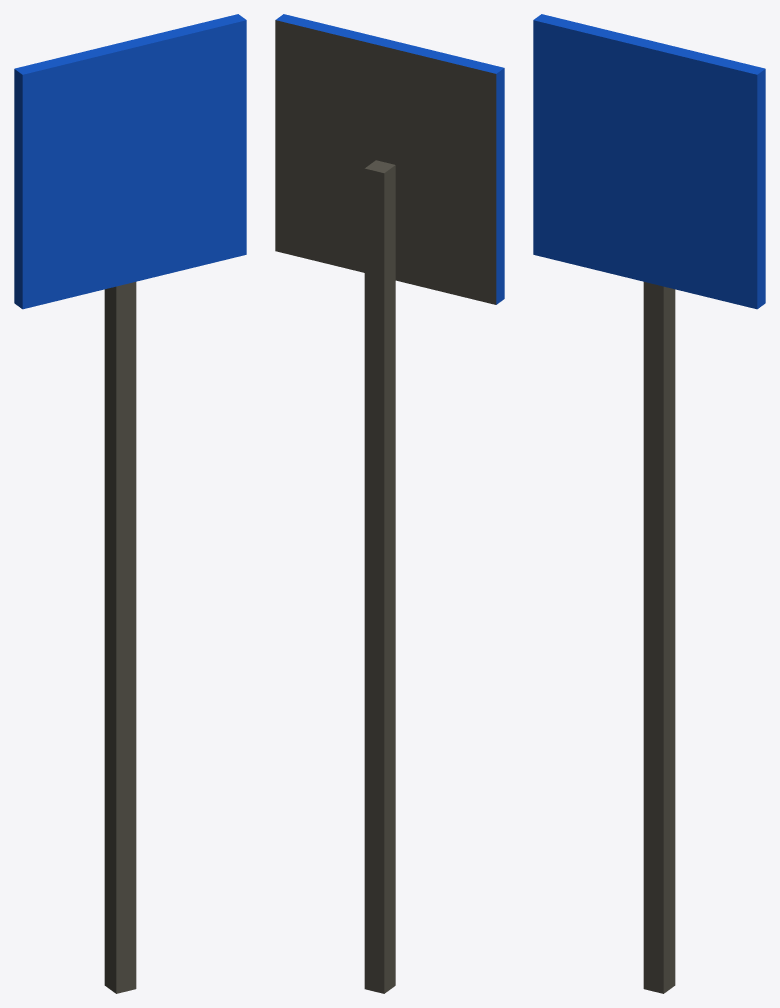
File: CitySignGiveWarrant.fbx
3 renders of one model, left to right at view 1: azimuth 30°, elevation 25°; view 2: azimuth 150°, elevation 25°; view 3: azimuth 330°, elevation 25°, orthographic.
Visible parts, largest first — view 1: CitySignGiveWarrant; view 2: CitySignGiveWarrant; view 3: CitySignGiveWarrant.
Part boxes in pixels (box(x1,y1,x2,y2)): CitySignGiveWarrant: box(14, 14, 246, 993); CitySignGiveWarrant: box(275, 14, 504, 993); CitySignGiveWarrant: box(533, 14, 765, 993).
Bounding box in the file's own units: 0.1015 × 0.4112 × 0.0156.
